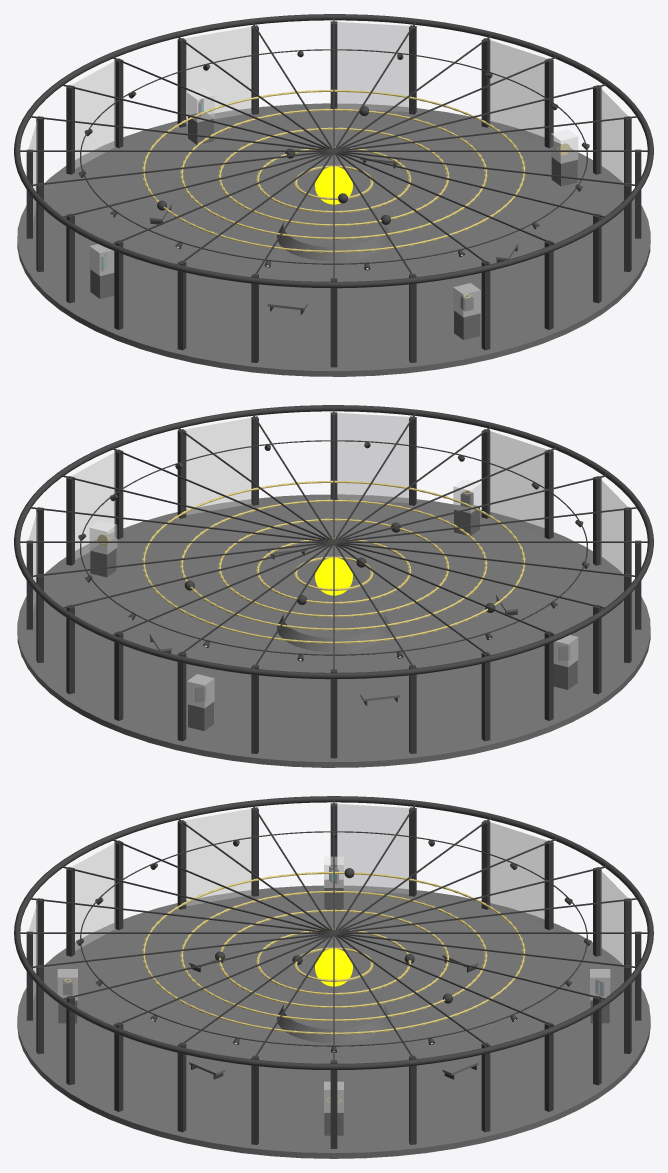
3 renders of one model, top to bottom at view 1: azimuth 30°, elevation 25°; view 2: azimuth 150°, elevation 25°; view 3: azimuth 270°, elevation 25°, orthographic.
Size of the model in its own units: 50.5 by 8.25 by 50.5.
